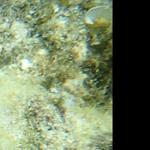dead: (1, 1, 111, 148)
